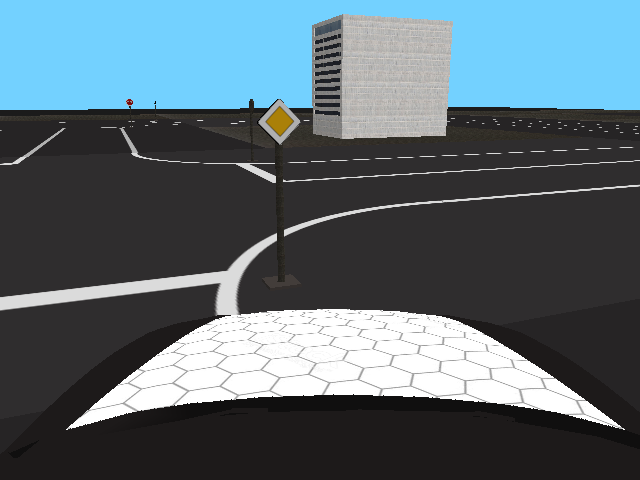priority: (256, 99, 302, 145)
